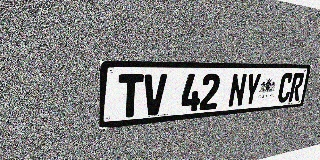2: (199, 73, 221, 110)
4: (180, 74, 203, 112)
C: (277, 73, 294, 103)
N: (227, 73, 247, 108)
R: (288, 73, 305, 102)
T: (117, 74, 144, 118)
V: (142, 74, 167, 116)
Y: (243, 73, 262, 106)
